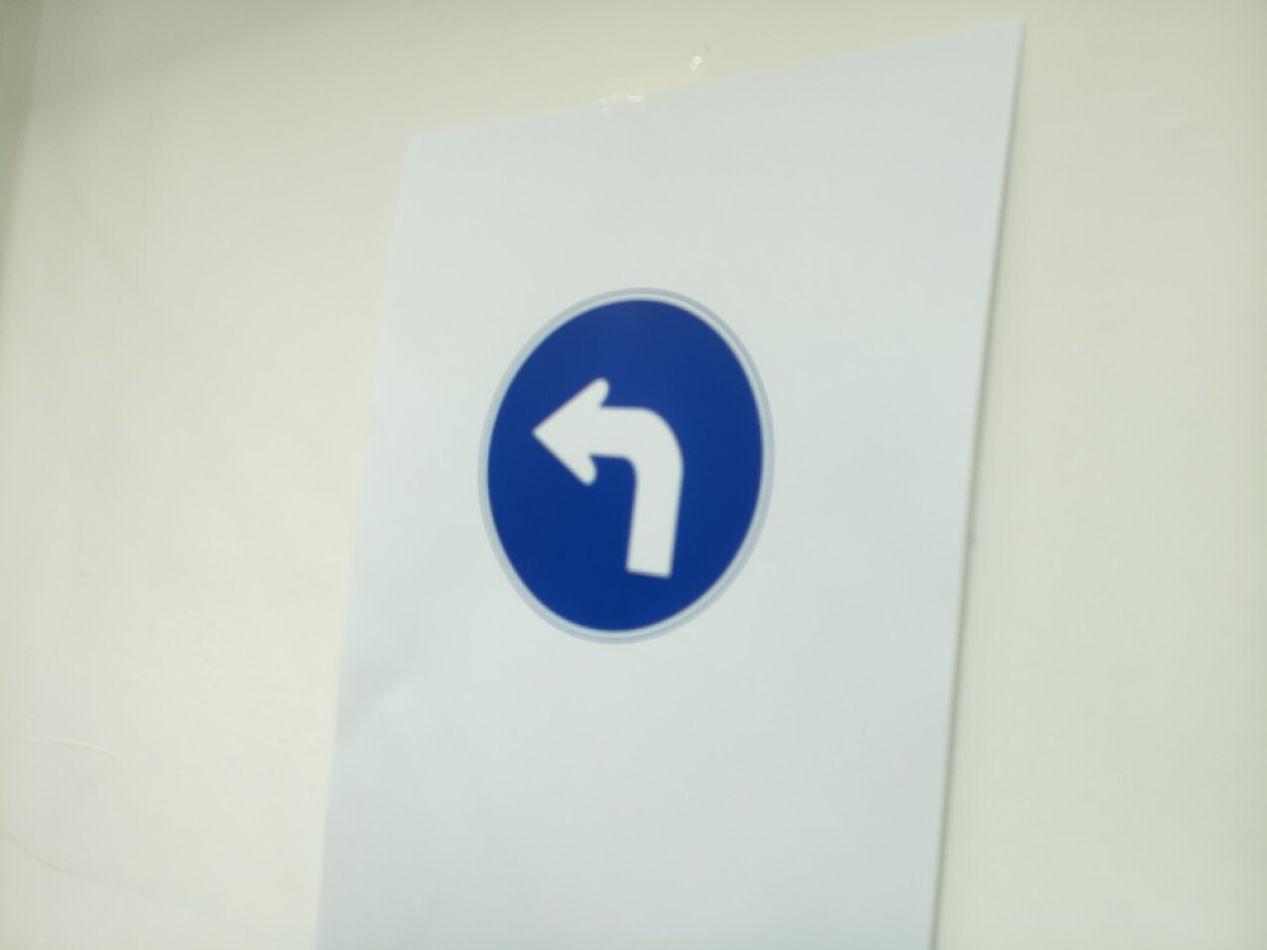left_turn: (478, 290, 772, 641)
